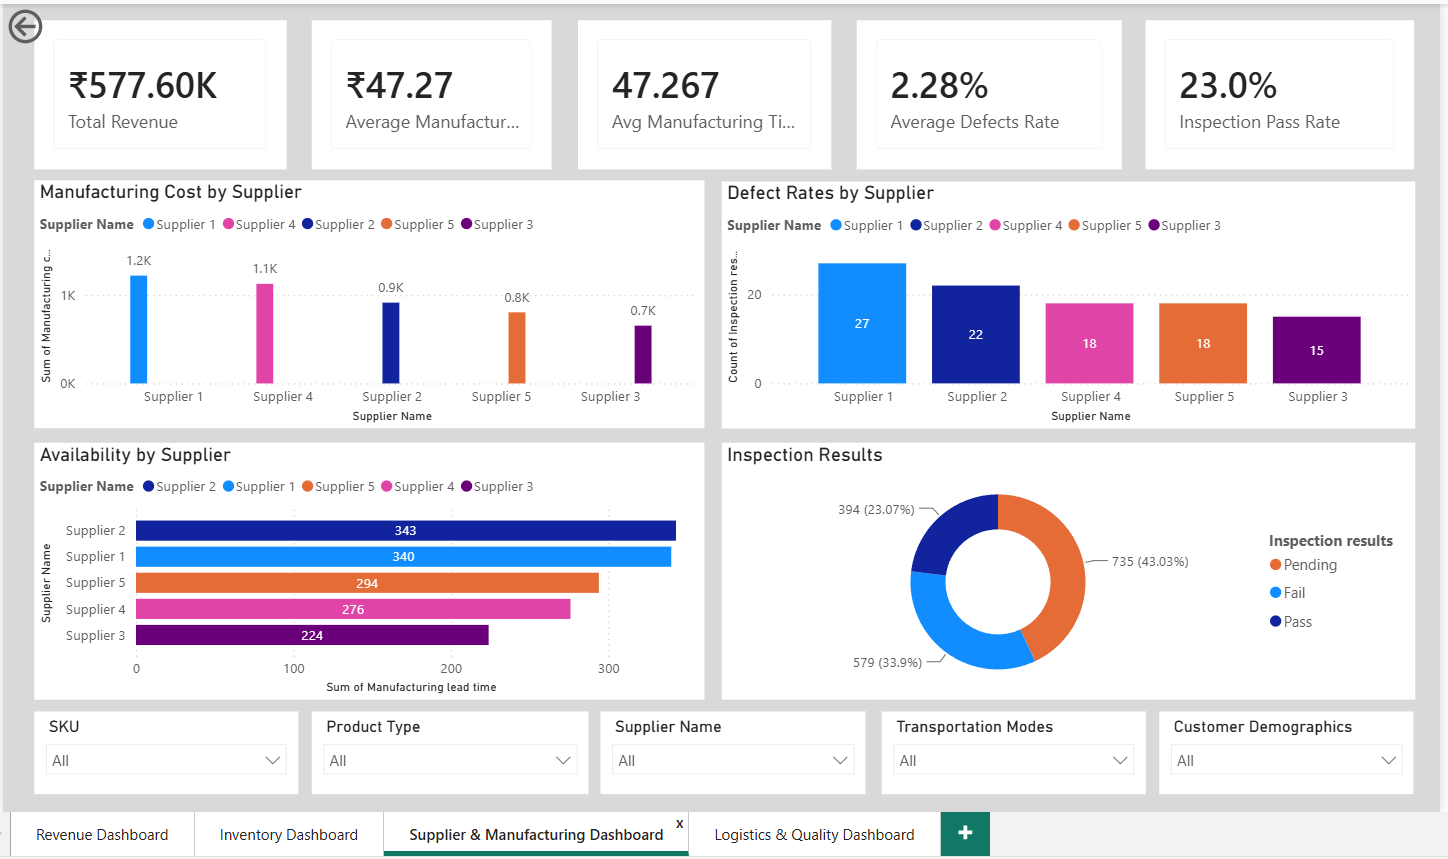

Layout of this report page (visuals, bound fields, positions):
{"tool":"powerbi","page":{"name":"Supplier & Manufacturing Dashboard","canvas":[1280,720],"ordinal":2},"visuals":[{"type":"slicer","fields":{"Values":["supply_chain_data.Product type"]},"box":[274.4,630.2,246.5,73.3],"z":0},{"type":"slicer","fields":{"Values":["supply_chain_data.Supplier name"]},"box":[532.6,630.2,236,73.3],"z":1000},{"type":"slicer","fields":{"Values":["supply_chain_data.Transportation modes"]},"box":[782.6,630.2,234.9,73.3],"z":2000},{"type":"slicer","fields":{"Values":["supply_chain_data.Customer Demographics"]},"box":[1030.2,630.2,226.7,73.3],"z":3000},{"type":"slicer","fields":{"Values":["supply_chain_data.SKU"]},"box":[27.9,630.2,234.9,73.3],"z":4000},{"type":"cardVisual","fields":{"Data":["supply_chain_data.Total Revenue"]},"box":[27.9,14,224.4,132.6],"z":5000},{"type":"cardVisual","fields":{"Data":["supply_chain_data.Total Manufacturing Cost"]},"box":[274.4,14,214,132.6],"z":6000},{"type":"cardVisual","fields":{"Data":["supply_chain_data.Avg Manufacturing Time"]},"box":[511.6,14,225.6,132.6],"z":7000},{"type":"cardVisual","fields":{"Data":["supply_chain_data.Average Defects Rate"]},"box":[760.5,14,236,132.6],"z":8000},{"type":"cardVisual","fields":{"Data":["supply_chain_data.Inspection Pass Rate"]},"box":[1017.4,14,239.5,132.6],"z":9000},{"type":"clusteredColumnChart","title":"Manufacturing Cost by Supplier","fields":{"Category":["supply_chain_data.Supplier Name"],"Y":["Sum(supply_chain_data.Manufacturing costs)"],"Series":["supply_chain_data.Supplier Name"]},"box":[27.9,157,596.5,220.9],"z":10000},{"type":"columnChart","title":"Defect Rates by Supplier","fields":{"Y":["CountNonNull(supply_chain_data.Inspection results)"],"Category":["supply_chain_data.Supplier Name"],"Series":["supply_chain_data.Supplier Name"]},"box":[639.5,158.1,617.4,219.8],"z":11000},{"type":"barChart","title":"Availability by Supplier","fields":{"Category":["supply_chain_data.Supplier Name"],"Y":["Sum(supply_chain_data.Manufacturing lead time)"],"Series":["supply_chain_data.Supplier Name"]},"box":[27.9,390.7,596.5,229.1],"z":12000},{"type":"donutChart","title":"Inspection Results","fields":{"Category":["supply_chain_data.Inspection results"],"Y":["Sum(supply_chain_data.Lead time)"]},"box":[639.5,390.7,617.4,229.1],"z":13000},{"type":"actionButton","box":[0,0,100,40],"z":14000}]}

Visuals, with their boxes on the page's 1280x720 design canvas (x1, y1, x2, y2). These are canvas units, not pixel positions in the 1448x859 screenshot, which may show the page scaled, cropped or inside an application window:
slicer - supply_chain_data.Product type: x1=274 y1=630 x2=521 y2=704
slicer - supply_chain_data.Supplier name: x1=533 y1=630 x2=769 y2=704
slicer - supply_chain_data.Transportation modes: x1=783 y1=630 x2=1018 y2=704
slicer - supply_chain_data.Customer Demographics: x1=1030 y1=630 x2=1257 y2=704
slicer - supply_chain_data.SKU: x1=28 y1=630 x2=263 y2=704
cardVisual - supply_chain_data.Total Revenue: x1=28 y1=14 x2=252 y2=147
cardVisual - supply_chain_data.Total Manufacturing Cost: x1=274 y1=14 x2=488 y2=147
cardVisual - supply_chain_data.Avg Manufacturing Time: x1=512 y1=14 x2=737 y2=147
cardVisual - supply_chain_data.Average Defects Rate: x1=760 y1=14 x2=996 y2=147
cardVisual - supply_chain_data.Inspection Pass Rate: x1=1017 y1=14 x2=1257 y2=147
"Manufacturing Cost by Supplier" clusteredColumnChart: x1=28 y1=157 x2=624 y2=378
"Defect Rates by Supplier" columnChart: x1=640 y1=158 x2=1257 y2=378
"Availability by Supplier" barChart: x1=28 y1=391 x2=624 y2=620
"Inspection Results" donutChart: x1=640 y1=391 x2=1257 y2=620
actionButton: x1=0 y1=0 x2=100 y2=40
